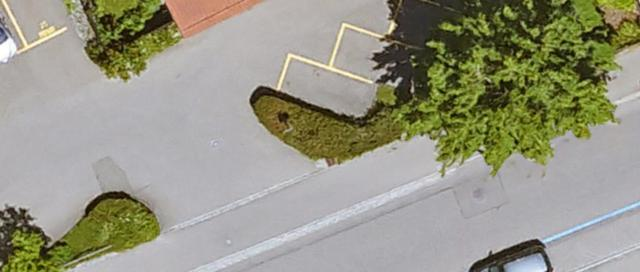tree: (409, 1, 617, 169), (0, 230, 64, 272)
